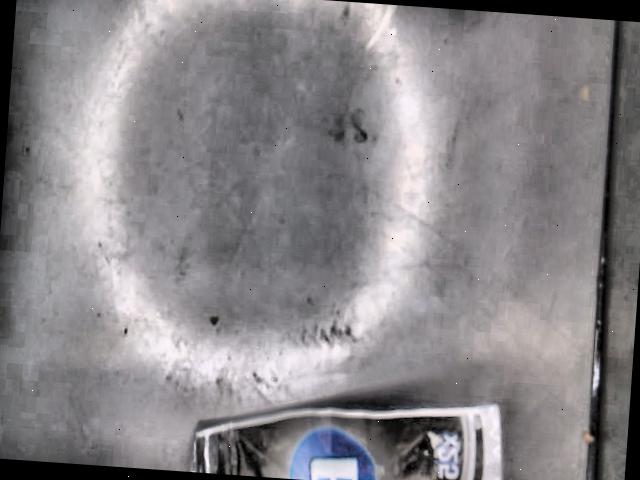Plastic: (191, 403, 502, 480)
